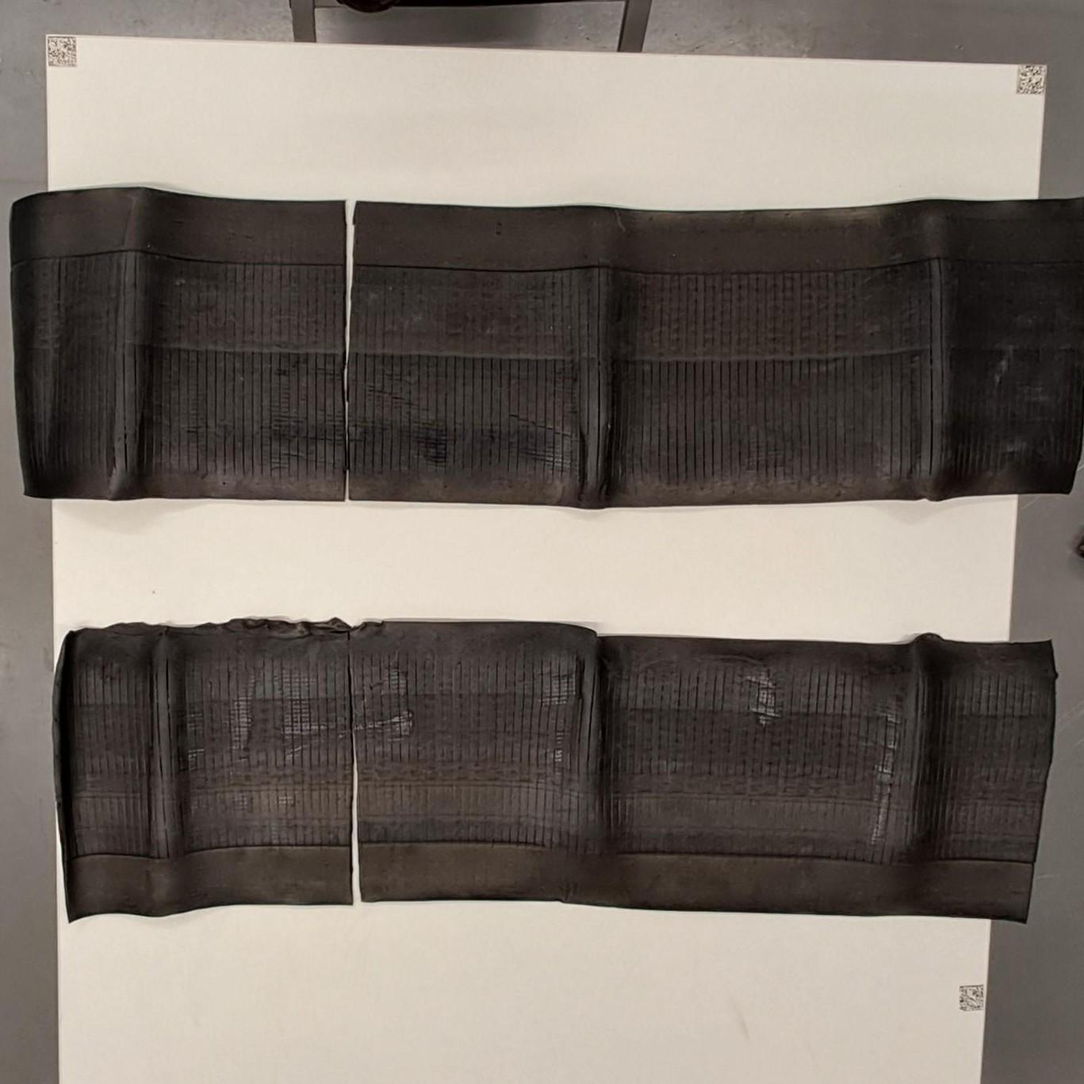cut_edge: (343, 201, 356, 500), (347, 645, 362, 904)
qr_code: (1017, 65, 1046, 94), (48, 36, 76, 66), (960, 985, 982, 1010)
